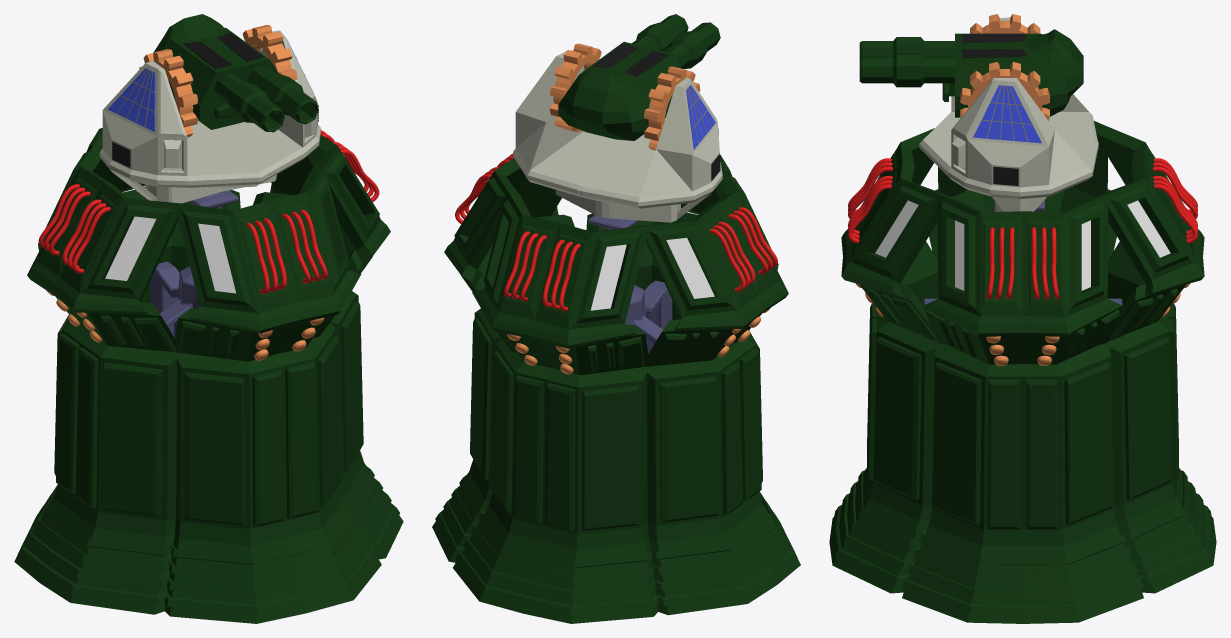
Rendered from Turret v.0.5.fbx.
3 renders of one model, left to right at view 1: azimuth 30°, elevation 25°; view 2: azimuth 150°, elevation 25°; view 3: azimuth 270°, elevation 25°, orthographic. The views are drawn at different scales.
Visible parts, largest first — view 1: remache, remache.002, remache.005, top turret, remache.009, Turret head, remache.004, remache.007, Gear, torreta buena, top turret.002, remache.003 (+2 smaller); view 2: remache.003, remache.002, remache.008, top turret, remache.009, Turret head, remache.004, remache.007, Gear, torreta buena, remache, rendija (+1 smaller); view 3: remache.004, remache, remache.003, remache.007, top turret, remache.008, remache.005, Turret head, Gear, top turret.002, remache.002, remache.009 (+1 smaller).
Boxes of the visible parts, <box> form: remache: <box>164,308,381,623</box>; remache.002: <box>14,290,178,614</box>; remache.005: <box>175,167,361,333</box>; top turret: <box>99,30,320,203</box>; remache.009: <box>27,141,185,313</box>; Turret head: <box>154,14,318,132</box>; remache.004: <box>253,192,403,559</box>; remache.007: <box>270,130,390,261</box>; Gear: <box>139,25,297,137</box>; torreta buena: <box>150,190,238,338</box>; top turret.002: <box>108,39,305,131</box>; remache.003: <box>40,187,240,510</box>; remache.003: <box>453,324,658,623</box>; remache.002: <box>645,308,800,615</box>; remache.008: <box>472,191,648,348</box>; top turret: <box>513,50,722,222</box>; remache.009: <box>638,167,788,330</box>; Turret head: <box>558,14,720,140</box>; remache.004: <box>432,214,574,562</box>; remache.007: <box>444,153,561,280</box>; Gear: <box>550,43,700,150</box>; torreta buena: <box>588,215,672,353</box>; remache: <box>586,212,776,516</box>; rendija: <box>593,43,667,77</box>; remache.004: <box>902,306,1143,623</box>; remache: <box>829,241,939,593</box>; remache.003: <box>1106,241,1216,593</box>; remache.007: <box>923,194,1122,336</box>; top turret: <box>919,17,1098,211</box>; remache.008: <box>1093,124,1204,295</box>; remache.005: <box>841,128,952,295</box>; Turret head: <box>859,29,1083,117</box>; Gear: <box>960,14,1049,120</box>; top turret.002: <box>973,85,1041,143</box>; remache.002: <box>929,187,1116,260</box>; remache.009: <box>935,121,1110,196</box>.
Bounding box in the file's own units: 977 × 1417 × 977.
